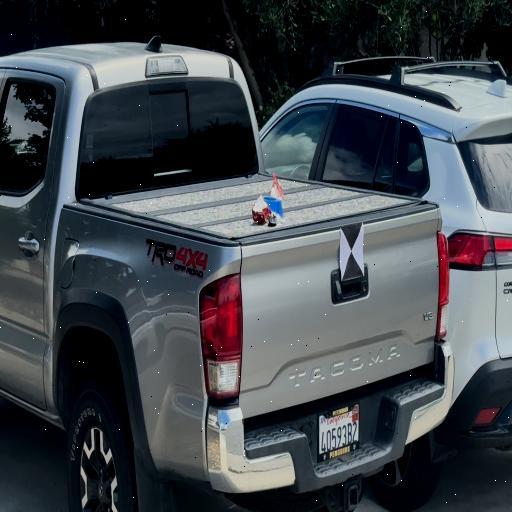target: (340, 224, 364, 280)
